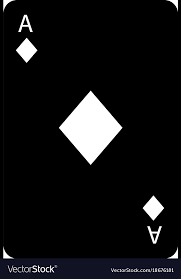ace of diamonds: (4, 1, 179, 260)
